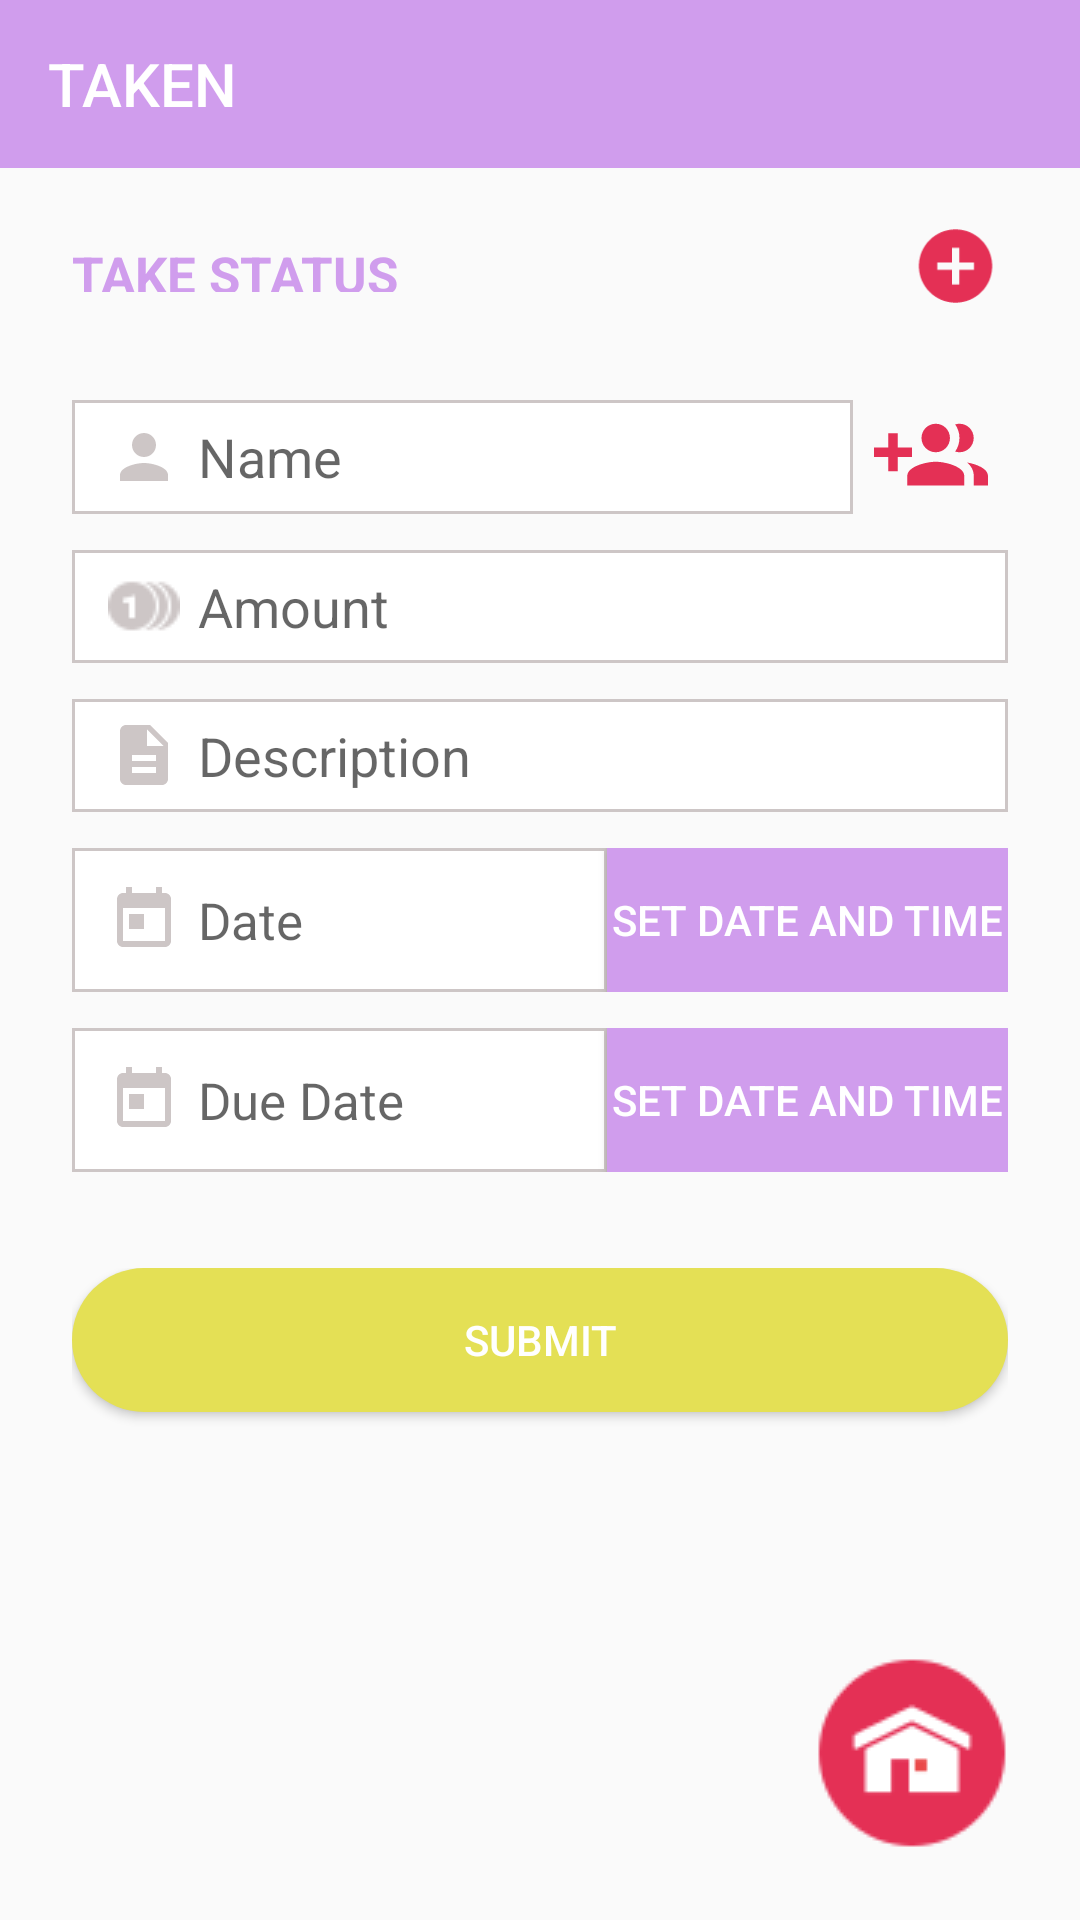

Named icons in this screenshot (1080px×1920px) and their bounding boxes, bbox=[x1, y1, x2, y2]:
add circle: bbox=[918, 229, 993, 303]
group add: bbox=[874, 423, 988, 486]
home: bbox=[818, 1659, 1006, 1847]
